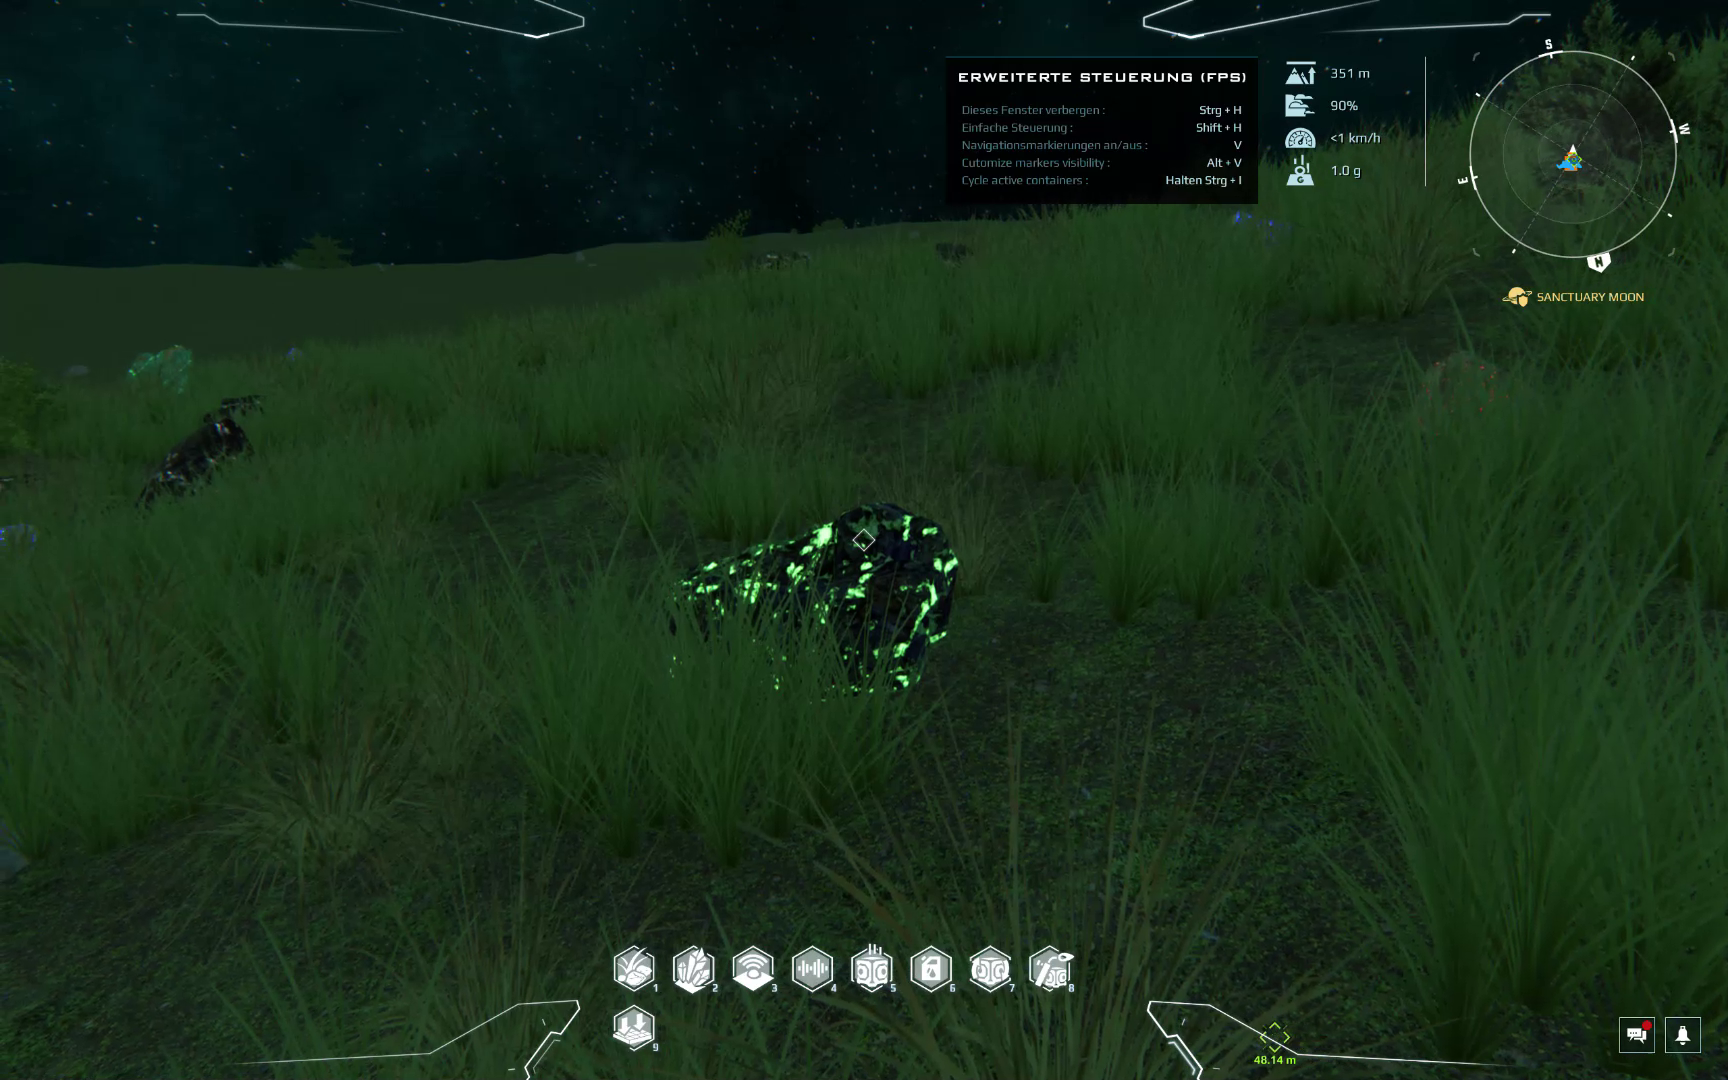Ore: (646, 491, 965, 704), (1403, 328, 1533, 443), (127, 411, 253, 519), (189, 384, 272, 429), (750, 244, 816, 277), (923, 233, 980, 271), (1230, 207, 1288, 243)
